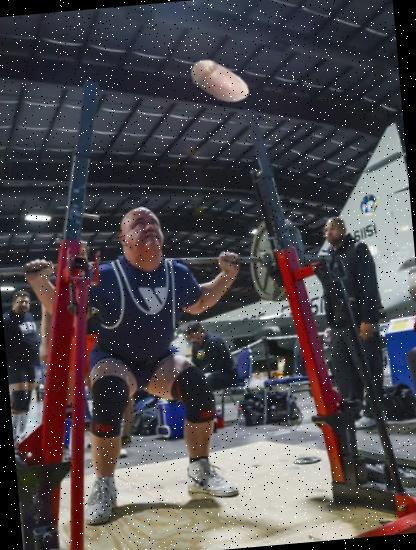Hazelnut: (186, 47, 254, 116)
